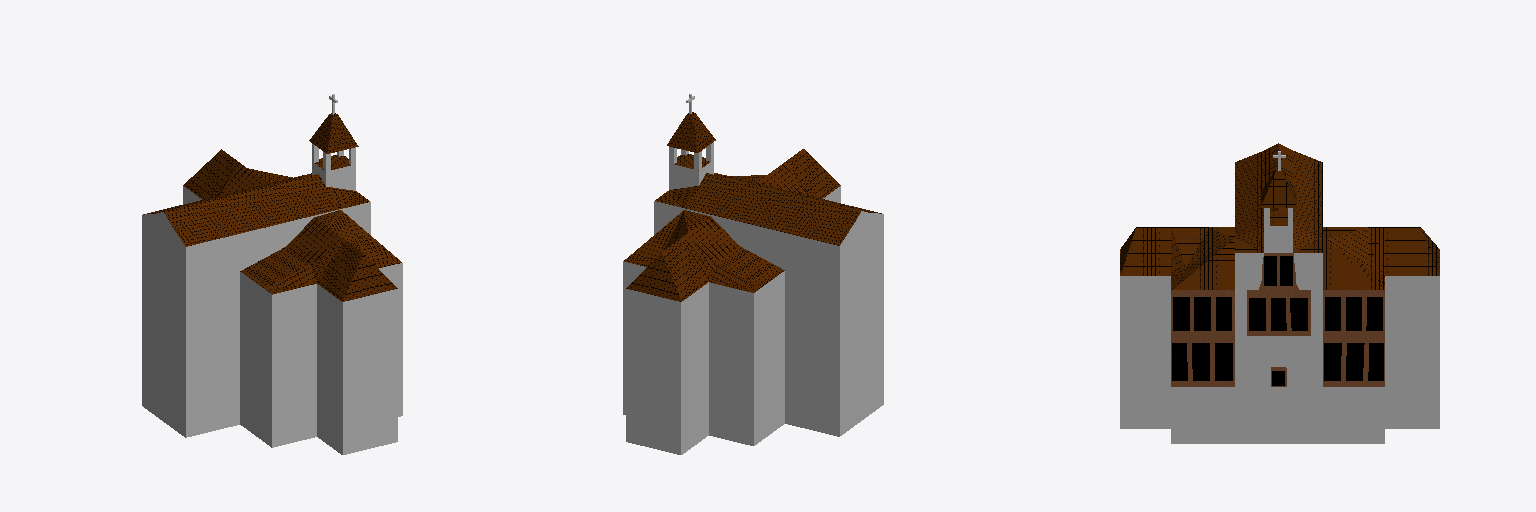
3 views of the same model, side by side, from view 1: azimuth 30°, elevation 25°; view 2: azimuth 150°, elevation 25°; view 3: azimuth 270°, elevation 25° (orthographic).
Parts seen in each view (by area): view 1: Cube_Cube.001, Cube.005; view 2: Cube_Cube.001, Cube.005; view 3: Cube_Cube.001, Cube.005.
Boxes of the visible parts, x1=… form: Cube_Cube.001: x1=142, y1=149, x2=402, y2=454; Cube.005: x1=309, y1=113, x2=358, y2=153; Cube_Cube.001: x1=623, y1=149, x2=883, y2=454; Cube.005: x1=667, y1=112, x2=715, y2=152; Cube_Cube.001: x1=1120, y1=143, x2=1439, y2=443; Cube.005: x1=1261, y1=169, x2=1296, y2=207.
Size of the model in its own units: 6.51 by 9.54 by 9.68.
5 materials, 2 textured.